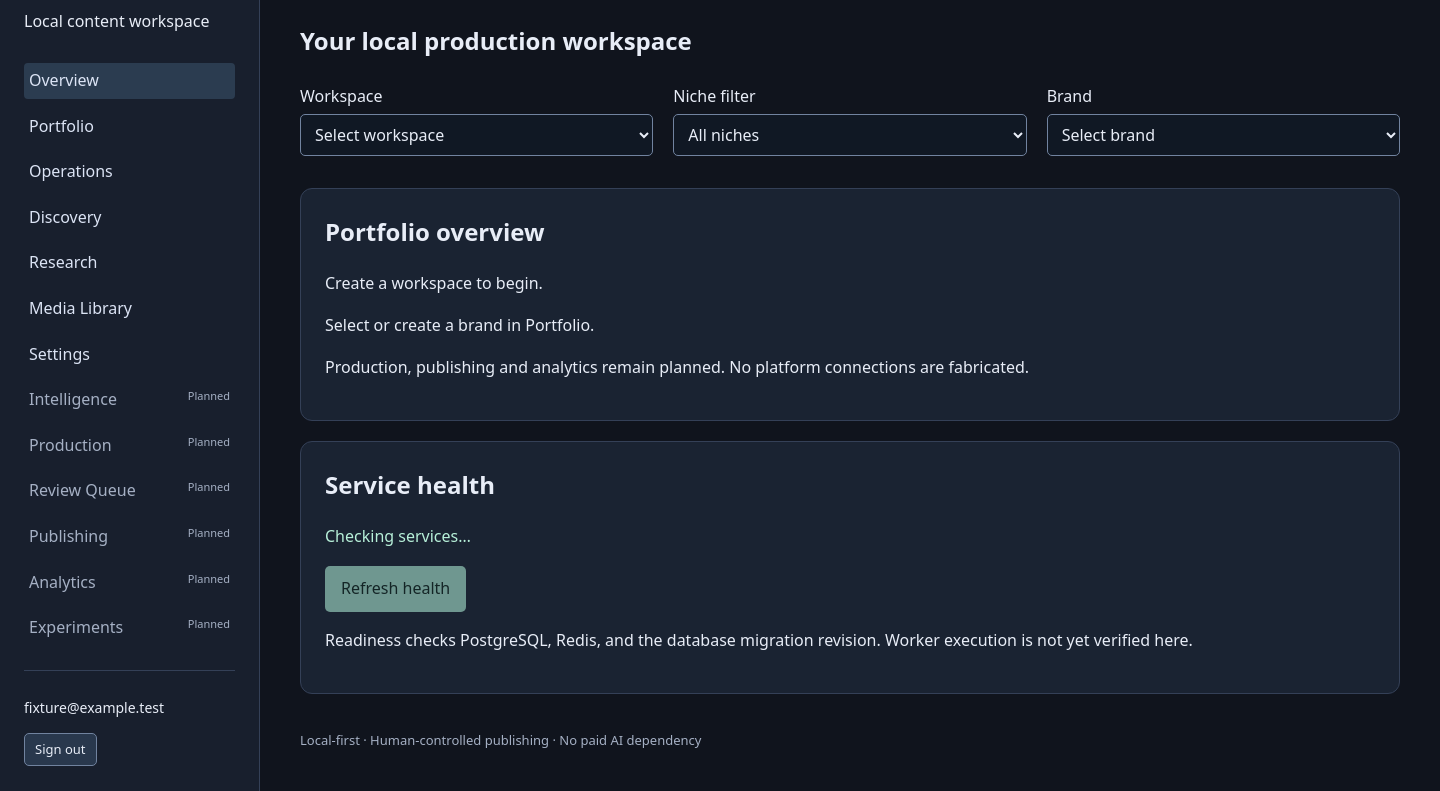
Test case: signing out removes portfolio access
(page scrolled)
Click the button "Sign out" at (60, 750), box [24,733,96,766]
(page scrolled)
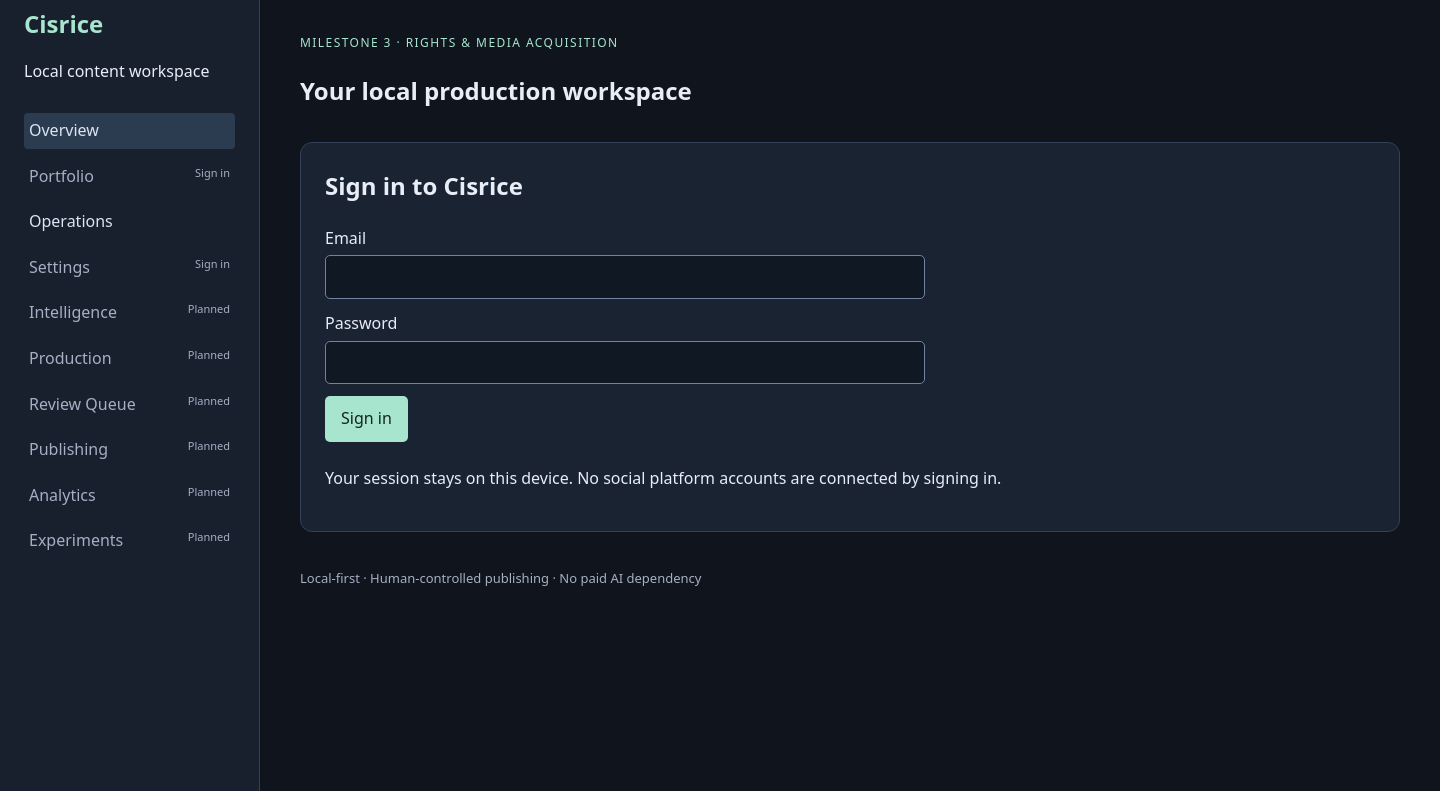
Expected: the heading "Sign in to Cisrice" is shown, [325,170,523,202]
